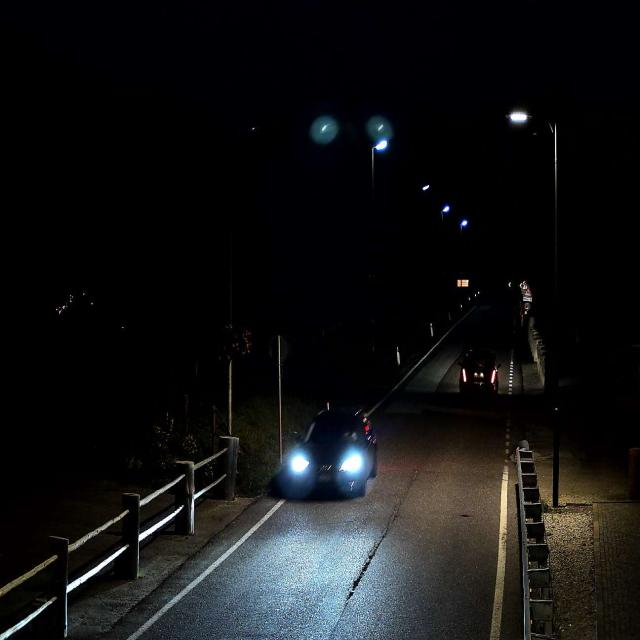car: (281, 405, 378, 500), (458, 346, 501, 396)
